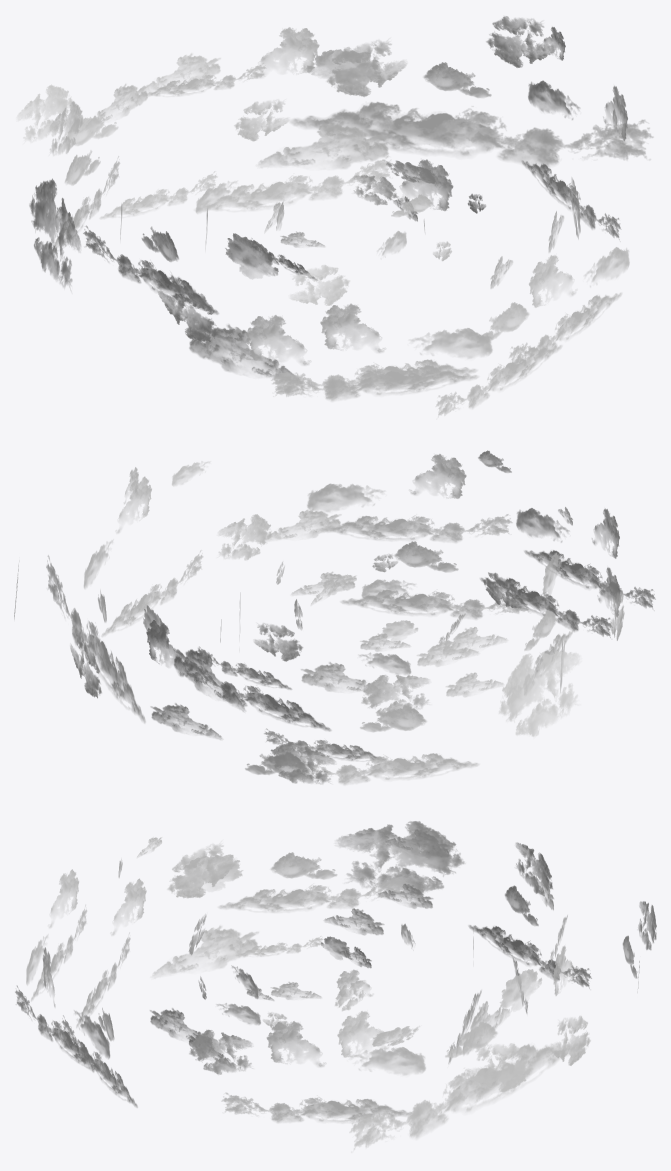
Rendered from clouds.glb.
3 views of the same model, one above another, from view 1: azimuth 30°, elevation 25°; view 2: azimuth 150°, elevation 25°; view 3: azimuth 270°, elevation 25° (orthographic). The views are drawn at different scales.
Visible parts, largest first — view 1: home_scene_clouds.024, home_scene_clouds.054, home_scene_clouds.040, home_scene_clouds.070, home_scene_clouds.015, home_scene_clouds.050, home_scene_clouds.043, home_scene_clouds.019, home_scene_clouds.031, home_scene_clouds.044, home_scene_clouds.018, home_scene_clouds.055 (+29 smaller); view 2: home_scene_clouds.015, home_scene_clouds.027, home_scene_clouds.044, home_scene_clouds.017, home_scene_clouds.024, home_scene_clouds.070, home_scene_clouds.043, home_scene_clouds.033, home_scene_clouds.054, home_scene_clouds.068, home_scene_clouds.040, home_scene_clouds.023 (+30 smaller); view 3: home_scene_clouds.024, home_scene_clouds.015, home_scene_clouds.031, home_scene_clouds.023, home_scene_clouds.050, home_scene_clouds.055, home_scene_clouds.017, home_scene_clouds.046, home_scene_clouds.028, home_scene_clouds.029, home_scene_clouds.022, home_scene_clouds.021 (+27 smaller).
Part boxes in pixels (<box>): home_scene_clouds.024: <box>290,101,653,167</box>; home_scene_clouds.054: <box>272,365,478,401</box>; home_scene_clouds.040: <box>257,121,389,168</box>; home_scene_clouds.070: <box>194,155,393,211</box>; home_scene_clouds.015: <box>29,178,80,289</box>; home_scene_clouds.050: <box>189,324,294,377</box>; home_scene_clouds.043: <box>271,359,477,394</box>; home_scene_clouds.019: <box>326,38,407,96</box>; home_scene_clouds.031: <box>83,225,218,314</box>; home_scene_clouds.044: <box>435,345,562,417</box>; home_scene_clouds.018: <box>306,49,381,89</box>; home_scene_clouds.055: <box>486,16,555,67</box>; home_scene_clouds.015: <box>499,650,581,736</box>; home_scene_clouds.027: <box>320,514,512,542</box>; home_scene_clouds.044: <box>340,590,528,619</box>; home_scene_clouds.017: <box>290,753,479,785</box>; home_scene_clouds.024: <box>46,555,145,723</box>; home_scene_clouds.070: <box>186,661,331,731</box>; home_scene_clouds.043: <box>480,578,612,637</box>; home_scene_clouds.033: <box>361,675,429,717</box>; home_scene_clouds.054: <box>524,550,655,608</box>; home_scene_clouds.068: <box>266,741,335,784</box>; home_scene_clouds.040: <box>173,648,245,711</box>; home_scene_clouds.023: <box>101,550,203,636</box>; home_scene_clouds.024: <box>349,1044,576,1152</box>; home_scene_clouds.015: <box>335,821,465,895</box>; home_scene_clouds.031: <box>218,875,408,912</box>; home_scene_clouds.023: <box>221,1092,411,1123</box>; home_scene_clouds.050: <box>151,925,258,978</box>; home_scene_clouds.055: <box>465,1043,532,1092</box>; home_scene_clouds.017: <box>468,925,591,988</box>; home_scene_clouds.046: <box>189,1029,252,1074</box>; home_scene_clouds.028: <box>176,854,242,891</box>; home_scene_clouds.029: <box>167,841,235,898</box>; home_scene_clouds.022: <box>266,1021,326,1067</box>; home_scene_clouds.021: <box>348,1047,425,1075</box>.
Bounding box in the file's own units: 264 × 95.27 × 275.
Materials: 1 (1 with a texture image).
